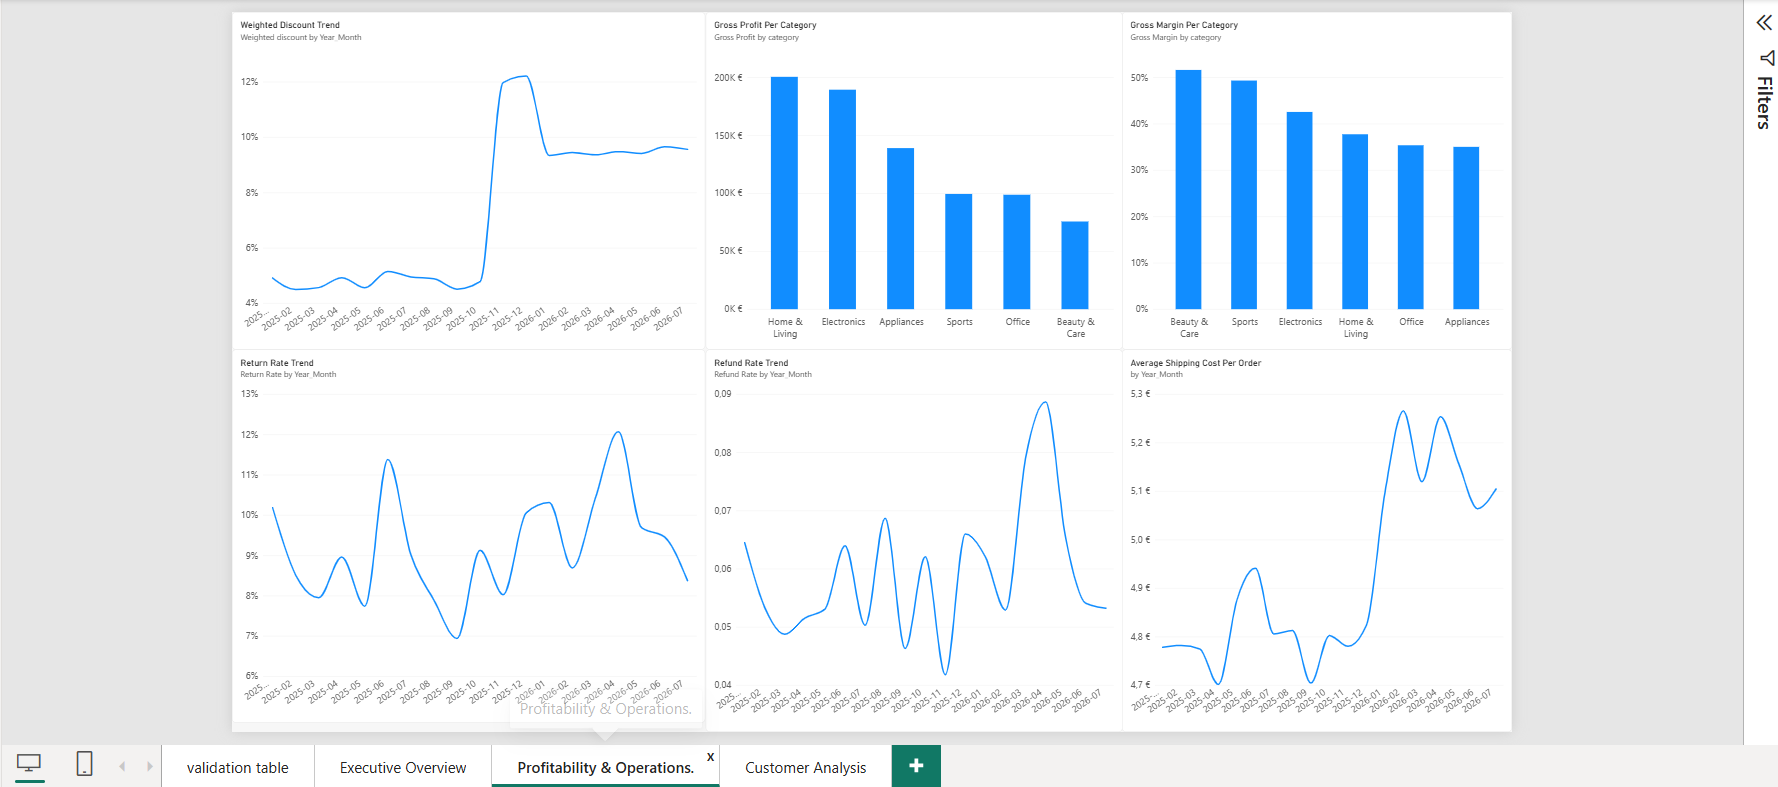

The dashboard page shown, as its layout file describes it:
{"tool":"powerbi","page":{"name":"Profitability & Operations","canvas":[2560,1440],"ordinal":2},"visuals":[{"type":"columnChart","title":"Gross Margin Per Category","fields":{"Category":["urbancart_analytics products.category"],"Y":["CalendarTable.Gross Margin"]},"box":[1780,0,780,675.6],"z":1000},{"type":"columnChart","title":"Gross Profit Per Category","fields":{"Category":["urbancart_analytics products.category"],"Y":["CalendarTable.Gross Profit"]},"box":[946.7,0,833.3,675.6],"z":2000},{"type":"lineChart","title":"Weighted Discount Trend","fields":{"Category":["CalendarTable.Year_Month"],"Y":["CalendarTable.Weighted discount"]},"box":[0,0,946.7,675.6],"z":2001},{"type":"lineChart","title":"Return Rate Trend","fields":{"Category":["CalendarTable.Year_Month"],"Y":["CalendarTable.Return Rate"]},"box":[0,675,947.5,765],"z":2002},{"type":"lineChart","title":"Refund Rate Trend","fields":{"Category":["CalendarTable.Year_Month"],"Y":["CalendarTable.Refund Rate"]},"box":[946.7,675.6,833.3,764.4],"z":2003},{"type":"lineChart","fields":{"Category":["CalendarTable.Year_Month"],"Y":["CalendarTable.Average Shipping Cost Per Oerder"]},"box":[1780,675.6,780,764.4],"z":2004}]}

Visuals, with their boxes on the page's 2560x1440 design canvas (x1, y1, x2, y2). These are canvas units, not pixel positions in the 1778x787 screenshot, which may show the page scaled, cropped or inside an application window:
"Gross Margin Per Category" columnChart: 1780:0:2560:676
"Gross Profit Per Category" columnChart: 947:0:1780:676
"Weighted Discount Trend" lineChart: 0:0:947:676
"Return Rate Trend" lineChart: 0:675:948:1440
"Refund Rate Trend" lineChart: 947:676:1780:1440
lineChart - CalendarTable.Year_Month x CalendarTable.Average Shipping Cost Per Oerder: 1780:676:2560:1440
